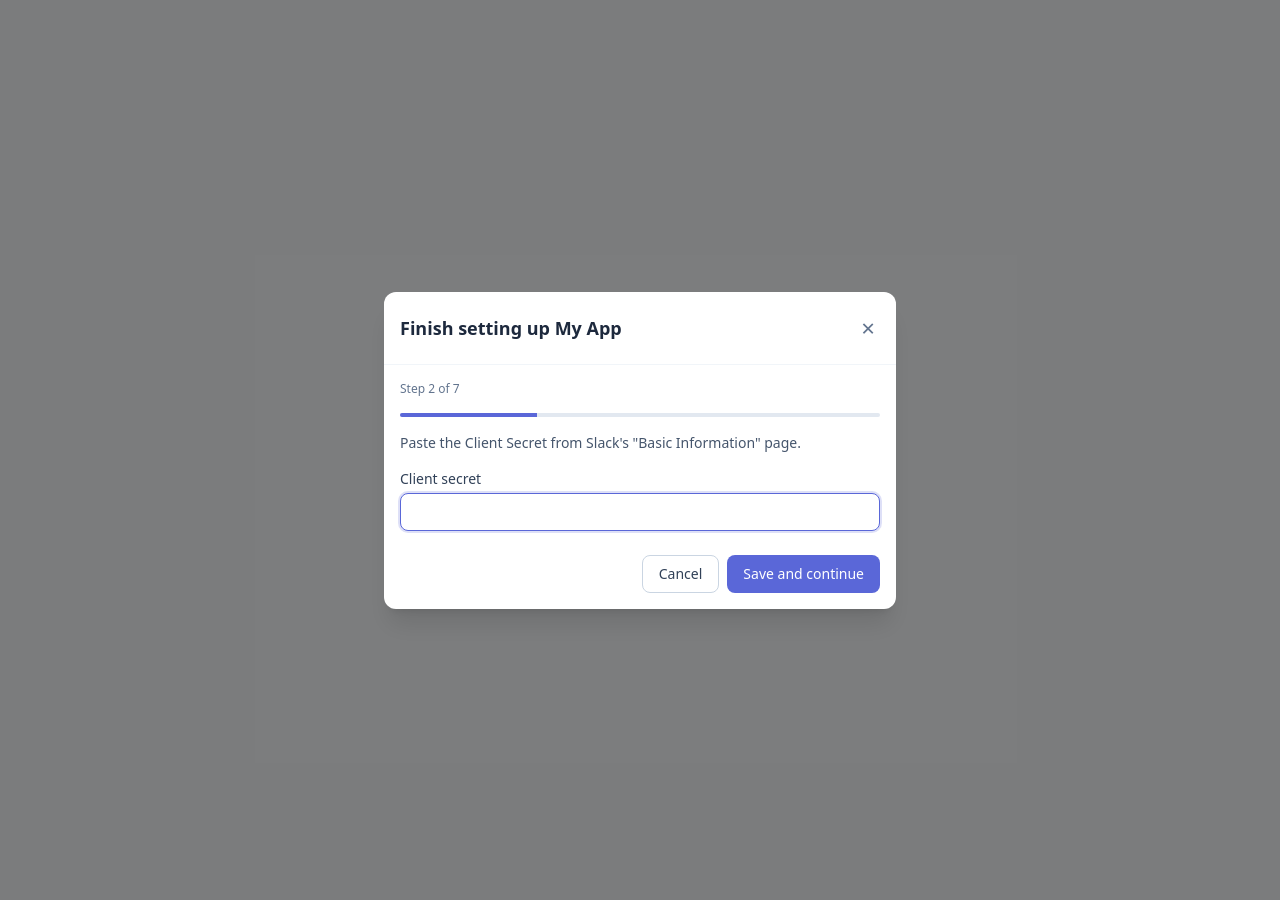
Scenario: SlackAppWizard - register -> client-secret -> oauth › requires a non-empty client secret
What coordinates should you click on to do the following:
click the button "Save and continue"
I would click on:
 (804, 574)
Its box is [727,554,880,592].
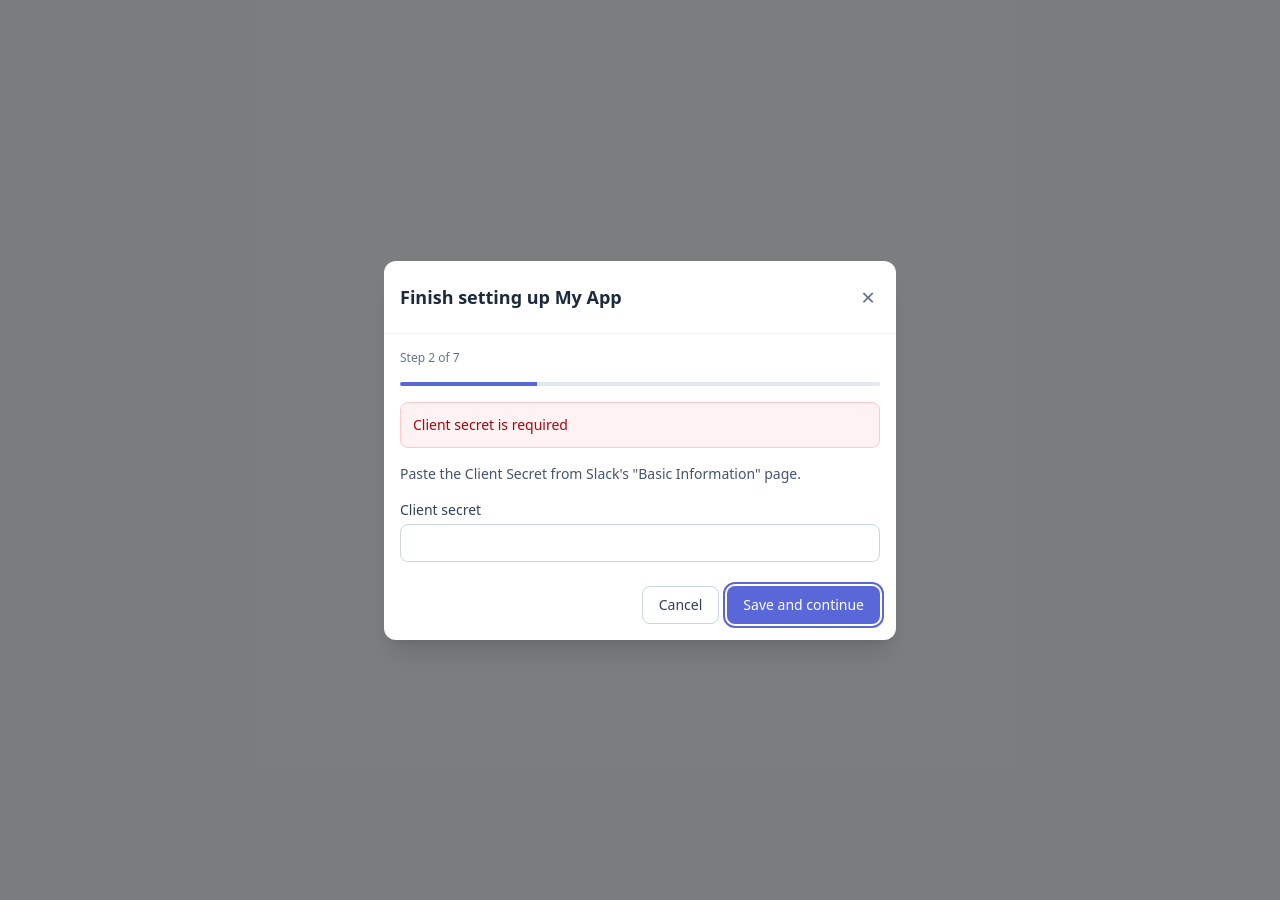
Now the text "Client secret is required" is shown, box [413,414,568,434]
